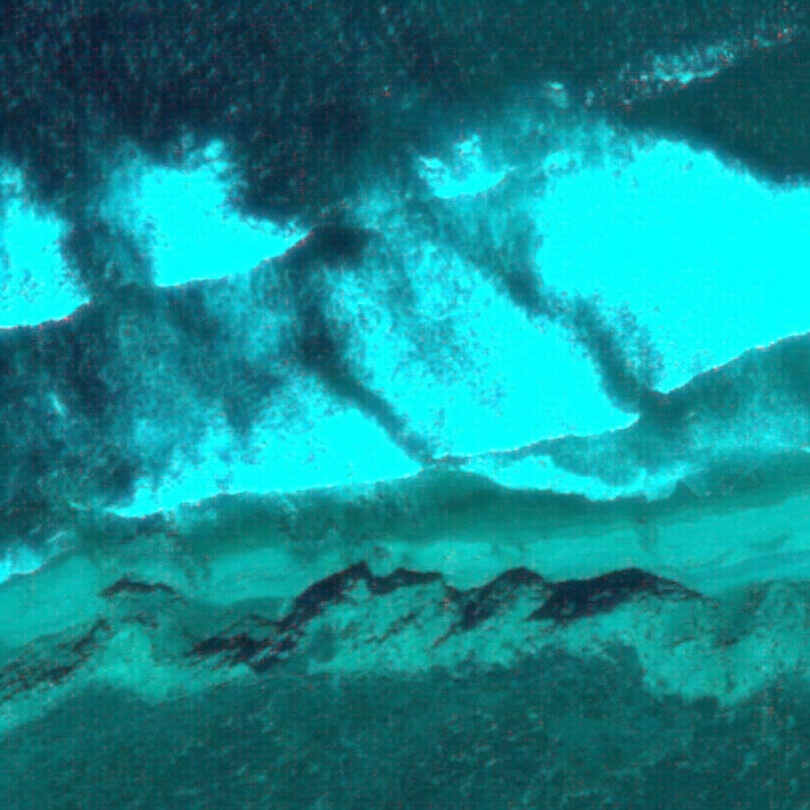rip_current: (251, 140, 409, 464)
